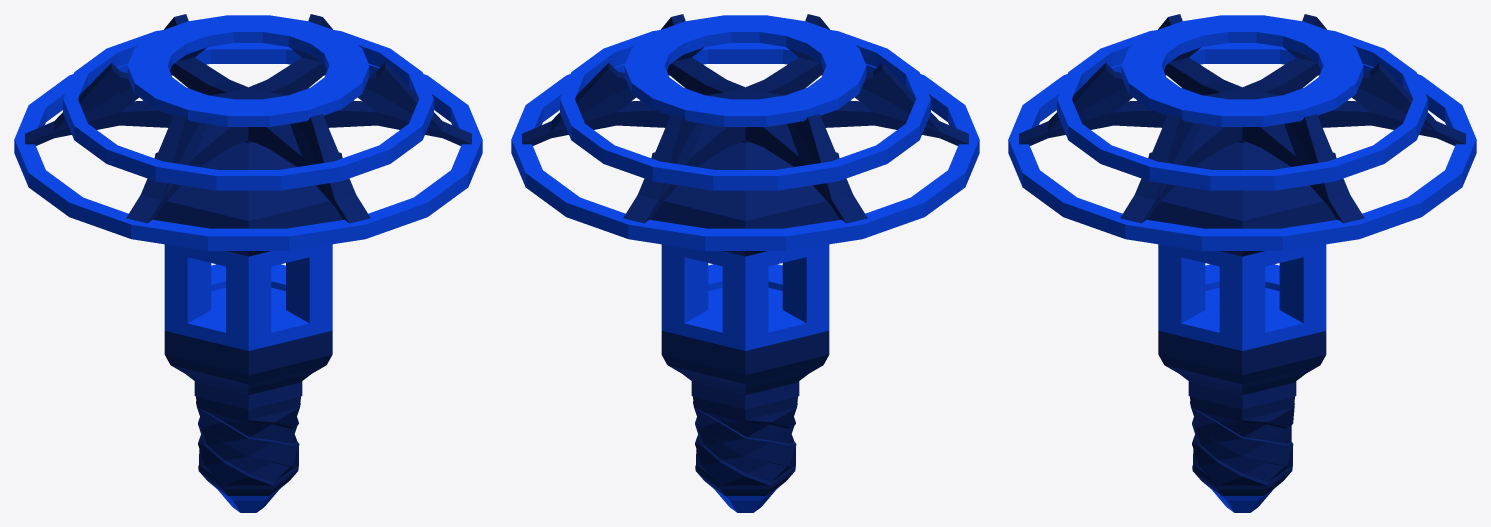
File: BlueLightBB.fbx
The picture shows the model from 3 angles, left to right: view 1: azimuth 30°, elevation 25°; view 2: azimuth 150°, elevation 25°; view 3: azimuth 270°, elevation 25°; orthographic projection.
Parts seen in each view (by area): view 1: HeadBlue, MidBLue, LegBlue; view 2: HeadBlue, MidBLue, LegBlue; view 3: HeadBlue, MidBLue, LegBlue.
Part boxes in pixels (x1,y1,x2,y2): HeadBlue: (14, 14, 482, 250); MidBLue: (154, 152, 342, 409); LegBlue: (196, 396, 300, 512); HeadBlue: (511, 14, 979, 250); MidBLue: (651, 152, 839, 409); LegBlue: (693, 396, 797, 512); HeadBlue: (1008, 14, 1476, 250); MidBLue: (1148, 152, 1336, 409); LegBlue: (1190, 396, 1294, 512).
Size of the model in its own units: 75.89 by 80.23 by 77.06.
